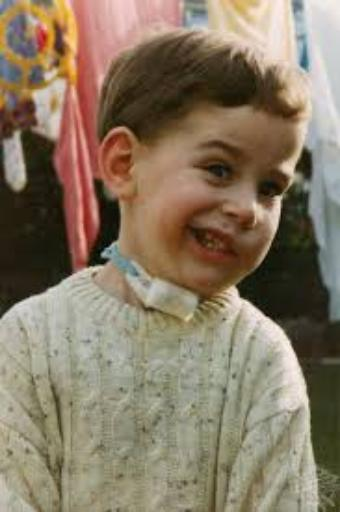left_eye: (260, 185, 281, 201)
left_lip_corner: (230, 243, 242, 260)
right_eye: (198, 161, 238, 184)
right_lip_corner: (186, 221, 202, 237)
